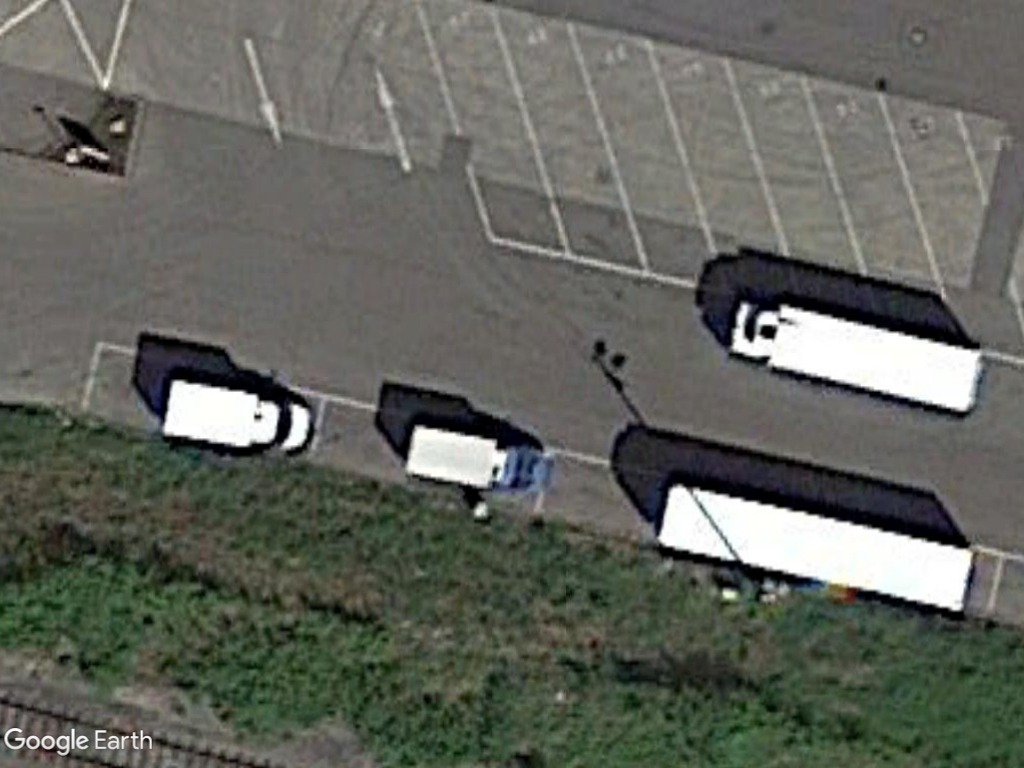longvehicle: (641, 475, 977, 622)
truck: (720, 291, 992, 421), (161, 374, 316, 457), (401, 420, 555, 503)
